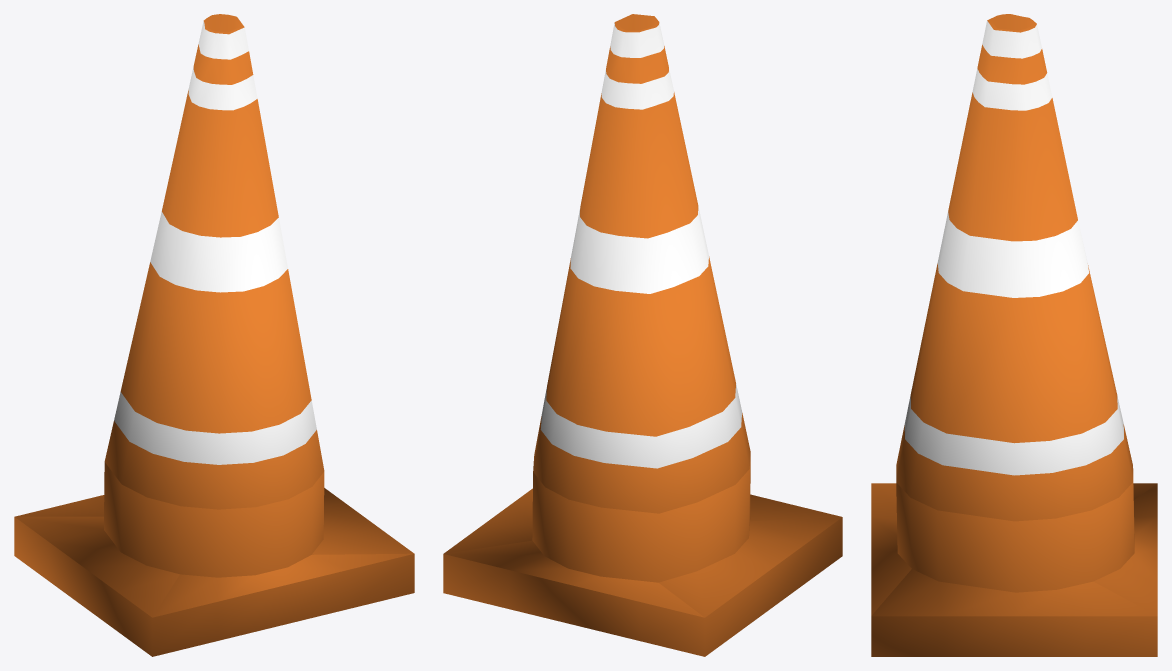
File: TrafficCone_HT.fbx
3 views of the same model, side by side, from view 1: azimuth 30°, elevation 25°; view 2: azimuth 150°, elevation 25°; view 3: azimuth 270°, elevation 25° (orthographic). The views are drawn at different scales.
Parts seen in each view (by area): view 1: Cylinder001.002; view 2: Cylinder001.002; view 3: Cylinder001.002.
Boxes of the visible parts, x1,y1,x2,y2 form: Cylinder001.002: (14,14,414,656); Cylinder001.002: (443,14,842,656); Cylinder001.002: (871,14,1157,656).
Bounding box in the file's own units: 34.78 × 69.65 × 31.7.
